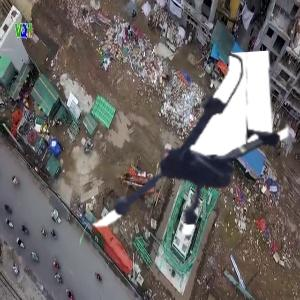drone: (81, 57, 294, 270)
